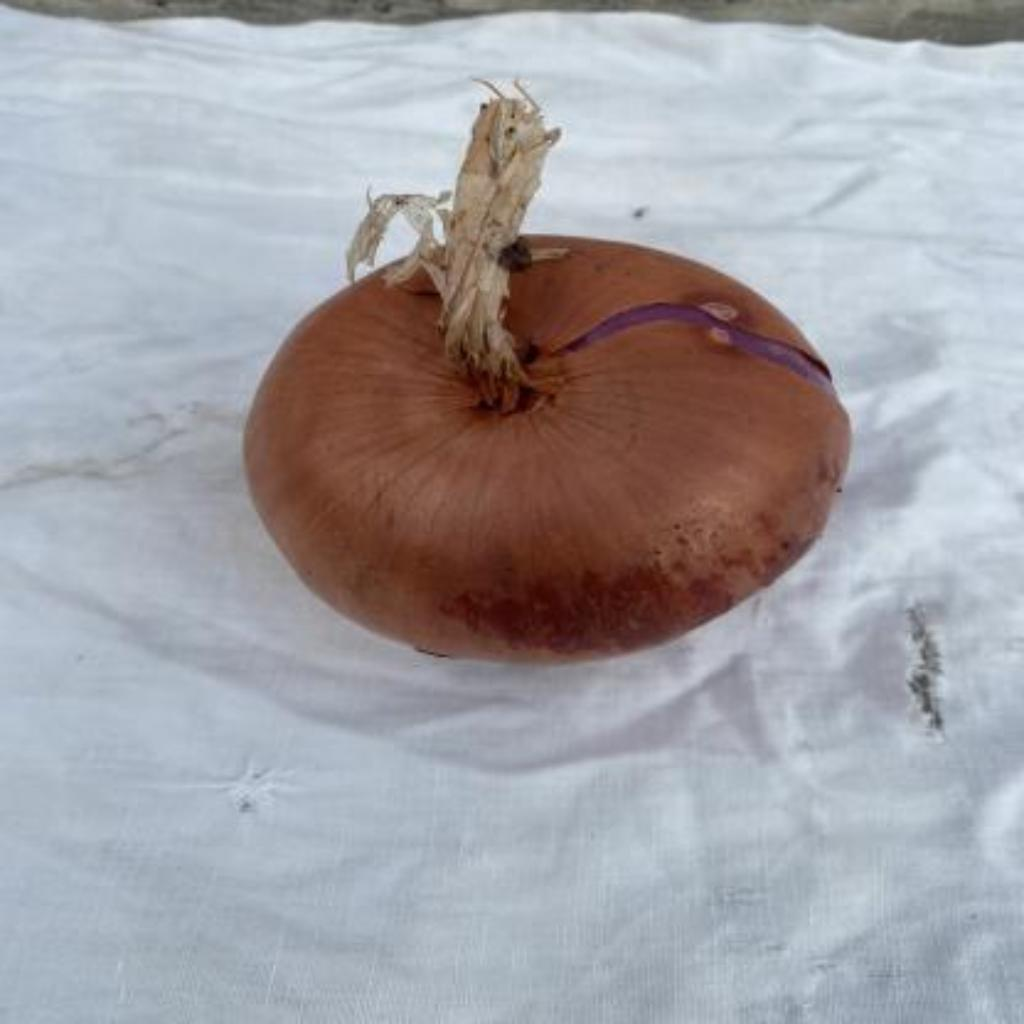Onion: (244, 86, 852, 661)
